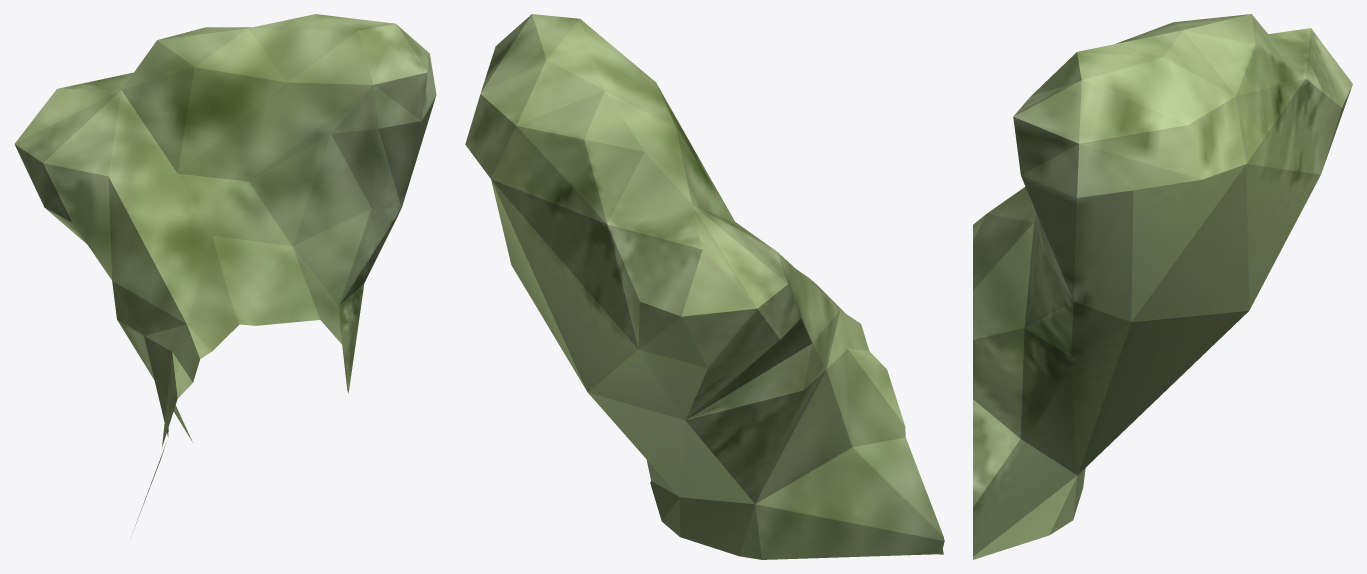
The picture shows the model from 3 angles, left to right: view 1: azimuth 30°, elevation 25°; view 2: azimuth 150°, elevation 25°; view 3: azimuth 270°, elevation 25°; orthographic projection. The views are drawn at different scales.
Bounding box in the file's own units: 0.6721 × 0.786 × 0.5219.
Materials: 1 (1 with a texture image).
